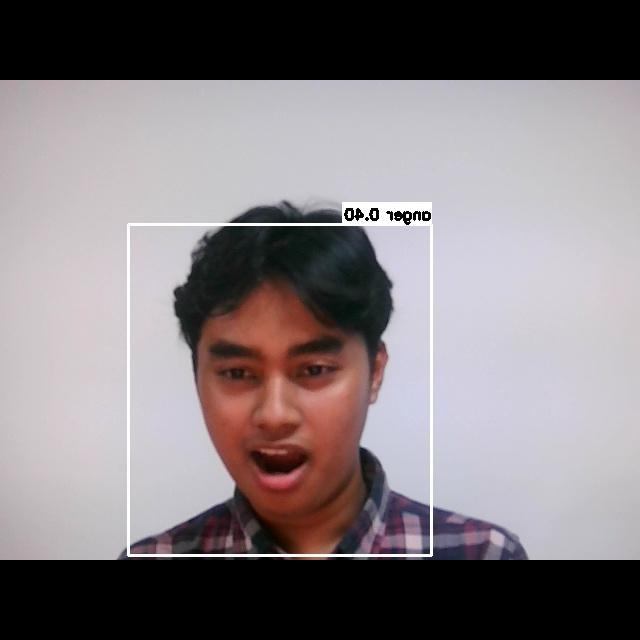Surprised: (190, 314, 379, 504)
